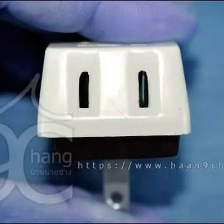three_eye_plug: (33, 35, 195, 216)
